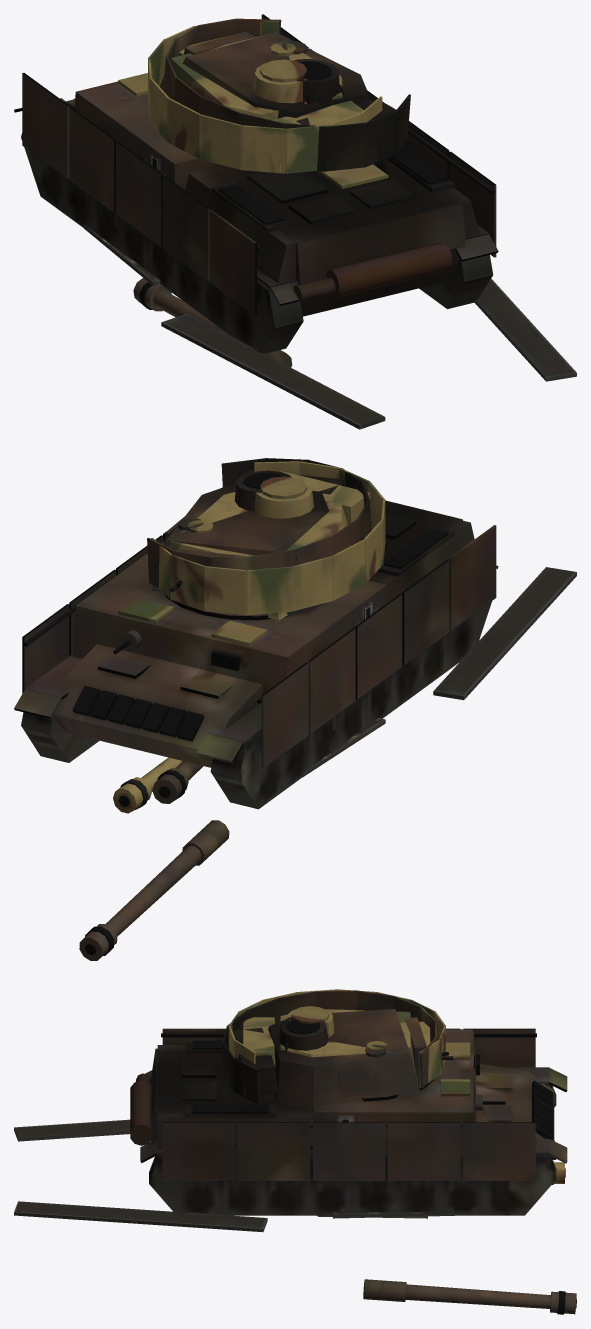
The picture shows the model from 3 angles, top to bottom: view 1: azimuth 30°, elevation 25°; view 2: azimuth 150°, elevation 25°; view 3: azimuth 270°, elevation 25°; orthographic projection. The views are drawn at different scales.
Parts seen in each view (by area): view 1: hull_blown, turret_ko, turret_ok, hull_trackL, hull_trackR, gun_blown, hull_ok; view 2: hull_blown, turret_ok, turret_ko, hull_trackL, gun_blown, hull_ok, gun_ok, gun_ko; view 3: hull_blown, turret_ko, turret_ok, hull_trackR, gun_blown, hull_trackL, hull_ok.
Boxes of the visible parts, box(x1,y1,x2,y2) form: hull_blown: box(14, 14, 498, 353); turret_ko: box(163, 18, 410, 171); turret_ok: box(148, 20, 382, 173); hull_trackL: box(84, 224, 385, 429); hull_trackR: box(474, 278, 576, 381); gun_blown: box(133, 278, 292, 367); hull_ok: box(118, 73, 388, 188); hull_blown: box(14, 500, 498, 809); turret_ok: box(151, 461, 385, 620); turret_ko: box(147, 458, 371, 591); hull_trackL: box(302, 567, 576, 777); gun_blown: box(79, 820, 229, 960); hull_ok: box(118, 598, 267, 645); gun_ok: box(113, 757, 181, 813); gun_ko: box(152, 761, 203, 803); hull_blown: box(130, 1028, 567, 1215); turret_ko: box(222, 990, 448, 1109); turret_ok: box(228, 989, 453, 1087); hull_trackR: box(14, 1201, 454, 1232); gun_blown: box(363, 1279, 576, 1314); hull_trackL: box(14, 1119, 130, 1141); hull_ok: box(441, 1042, 470, 1096).
Bounding box in the file's own units: 4.02 × 4.58 × 8.09.
21 materials, 21 textured.
